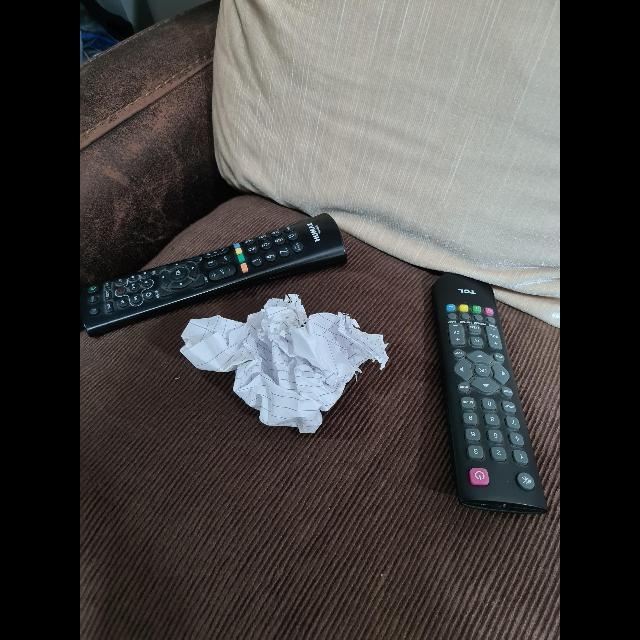scrap_paper: (180, 296, 398, 436)
